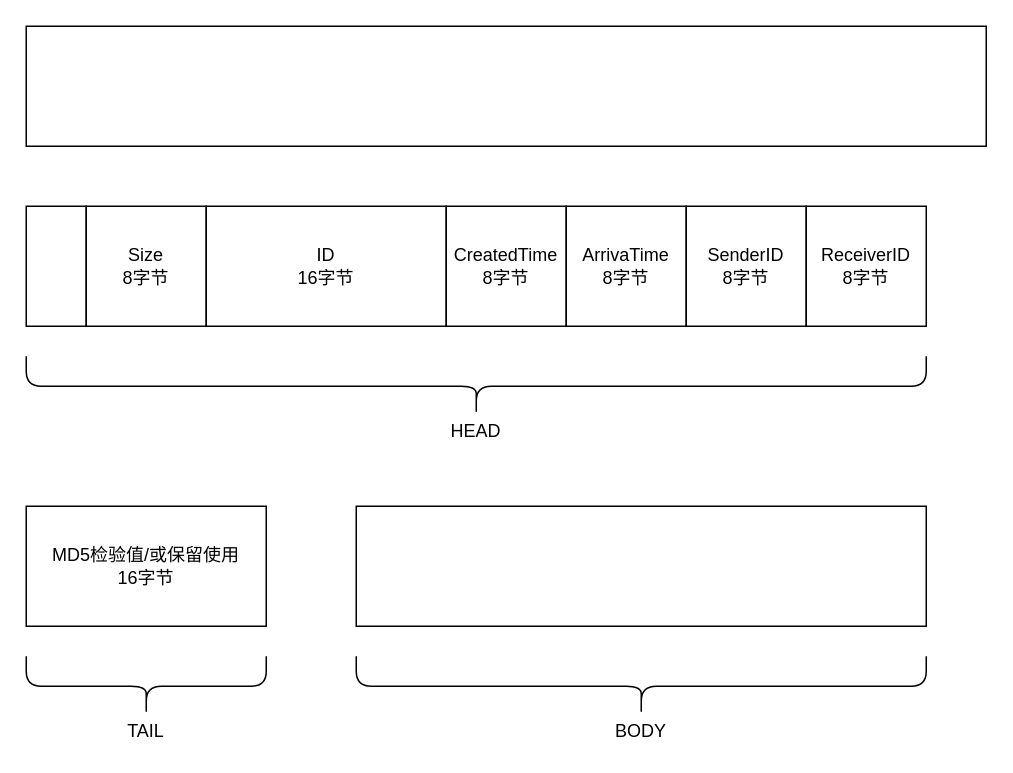
This 1013x773 diagram has some shape labels left out. The shapes that lost their labels are listed below. From the top down, each one's box as (x1, y1, x2, y2) in pixels, then its label:
(25, 205, 86, 326): Type 4字节
(355, 505, 926, 626): 消息体 不定长
